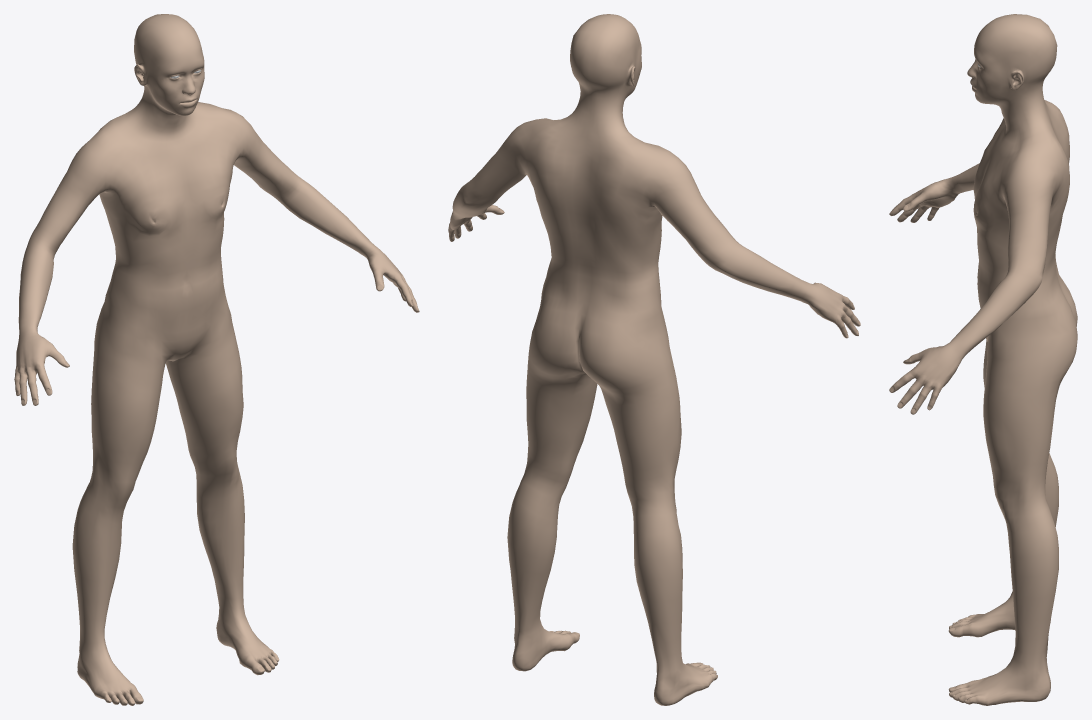
File: VoxEasyPainDiagram.glb
3 views of the same model, side by side, from view 1: azimuth 30°, elevation 25°; view 2: azimuth 150°, elevation 25°; view 3: azimuth 270°, elevation 25° (orthographic).
Parts seen in each view (by area): view 1: voxeasypaindiagram-base; view 2: voxeasypaindiagram-base; view 3: voxeasypaindiagram-base.
Boxes of the visible parts, x1,y1,x2,y2 form: voxeasypaindiagram-base: (14,14,419,705); voxeasypaindiagram-base: (448,14,860,705); voxeasypaindiagram-base: (889,14,1077,705).
Size of the model in its own units: 10.69 by 16.75 by 4.41.
